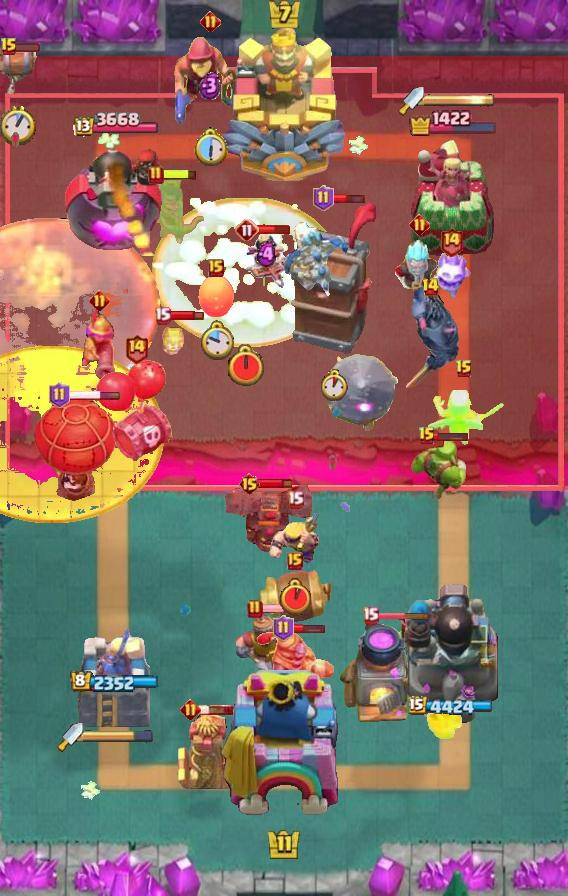archer-evolution: (218, 485, 312, 555)
arrows: (268, 514, 322, 567)
bar: (409, 138, 497, 256), (75, 623, 153, 731)
barbarian-hut: (135, 172, 207, 246)
bomb-tower: (79, 305, 119, 381)
cannon-cart: (30, 392, 120, 502)
dart-goblin: (289, 200, 379, 356)
earthquake: (236, 605, 298, 681)
electro-spirit: (199, 71, 221, 100), (256, 240, 276, 267)
elixir: (226, 344, 266, 388), (199, 320, 234, 362), (0, 105, 36, 145), (192, 127, 228, 167), (281, 578, 312, 616), (319, 370, 349, 403)
emote: (67, 390, 121, 401), (376, 611, 430, 621), (162, 167, 198, 180), (330, 191, 366, 204), (258, 478, 293, 491), (5, 41, 41, 53), (198, 704, 234, 716), (169, 309, 204, 321), (262, 602, 299, 613), (435, 430, 470, 441), (290, 623, 325, 634), (257, 224, 291, 235)
fireball: (171, 36, 249, 128)
flying-machine: (410, 441, 466, 499)
goblin-brawler: (176, 710, 238, 794)
golemite: (399, 287, 461, 391)
hog: (196, 275, 236, 319)
hunter: (338, 618, 428, 726)
ice-spirit-evolution: (159, 319, 187, 355)
king-tower: (220, 21, 348, 181), (219, 670, 349, 826)
king-tower-bar: (424, 93, 496, 107), (83, 730, 153, 744)
knight: (0, 43, 50, 97)
mini-pekka: (282, 218, 352, 302)
mirror: (429, 246, 473, 300)
mortar: (391, 238, 447, 306)
phoenix-big: (151, 197, 342, 346)
phoenix-egg: (0, 345, 164, 523), (0, 217, 160, 397)
poison: (420, 380, 508, 454)
ram-rider: (257, 630, 337, 702)
royal-recruit-evolution: (95, 359, 177, 465)
selected: (409, 109, 500, 137), (70, 112, 157, 140), (69, 671, 158, 694), (409, 696, 497, 718)
skeleton-dragon: (244, 233, 288, 293)
text: (440, 226, 465, 257), (124, 333, 149, 364), (235, 218, 259, 242), (273, 615, 295, 641), (239, 472, 262, 496), (314, 185, 335, 211), (50, 382, 71, 408), (410, 213, 431, 235), (179, 700, 201, 721), (199, 12, 220, 33), (89, 289, 110, 310), (420, 277, 439, 297), (0, 37, 18, 57), (455, 359, 473, 379), (418, 426, 436, 446), (153, 307, 170, 326), (288, 491, 305, 510), (148, 165, 164, 185), (247, 599, 263, 619), (361, 607, 378, 625), (208, 259, 224, 277), (287, 552, 303, 570)
the-log: (255, 570, 335, 624)
tower-bar: (402, 579, 504, 731), (63, 138, 164, 256)
valkyrie: (421, 701, 467, 743)
x-bow: (319, 353, 399, 433)
